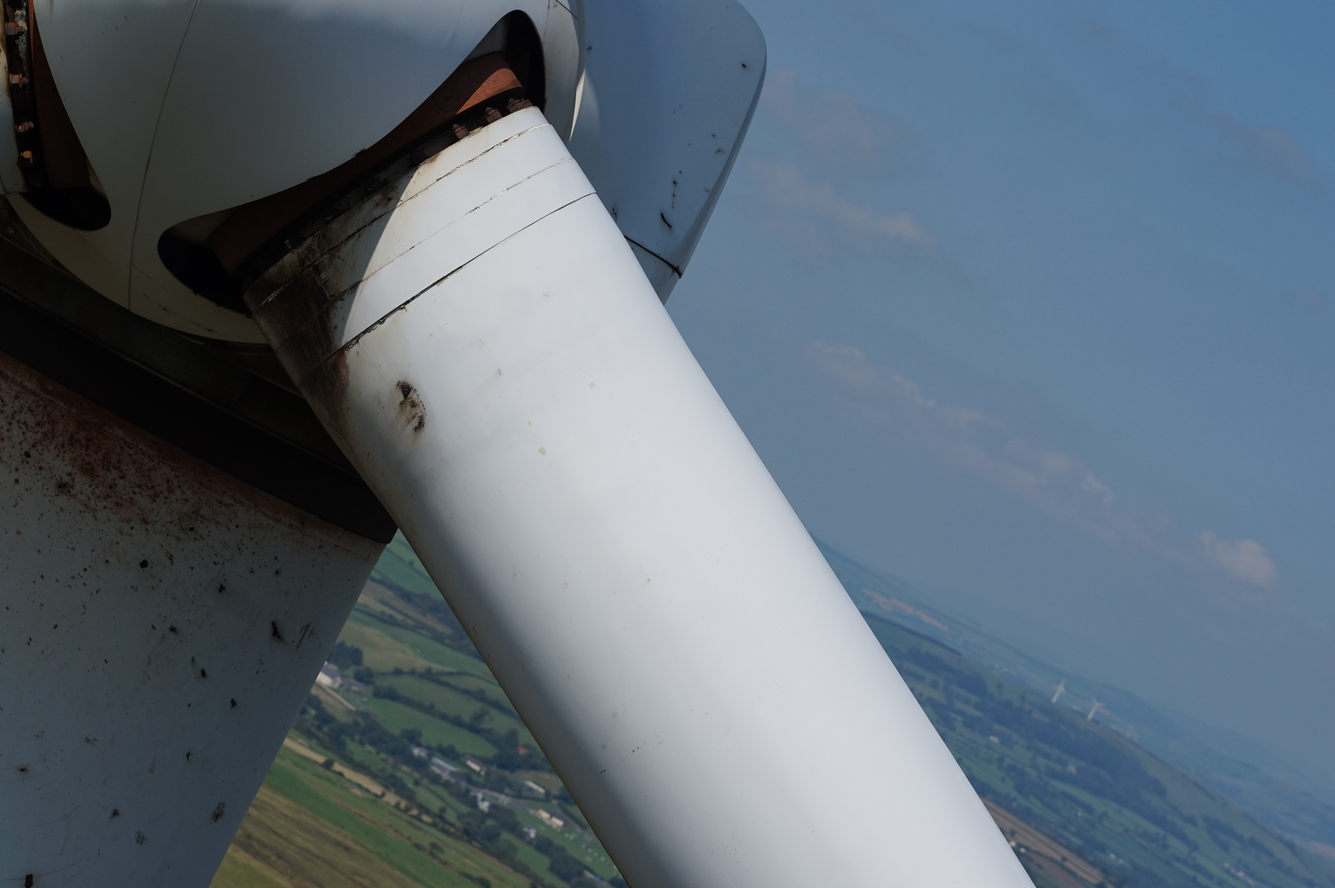Dirt: (395, 379, 428, 434)
